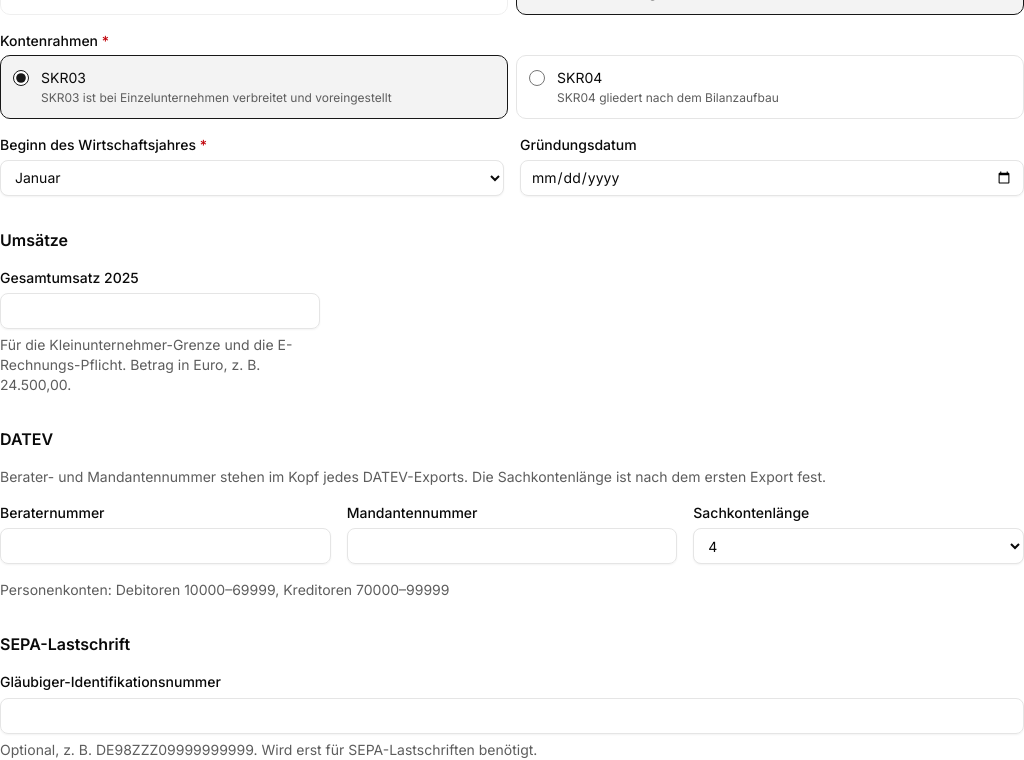
Test: tax settings DATEV section (F01 SET-044) › SET-044 DATEV-02 the debtor/creditor ranges follow the account length; an invalid consultant number is shown
(page scrolled)
Expected: the text with test id "datev-ranges" shows "Debitoren 10000–69999, Kreditoren 70000–99999", [0,581,450,598]
Select "5" in the dropdown labelled "Sachkontenlänge" at (859, 546), box [693,528,1023,564]
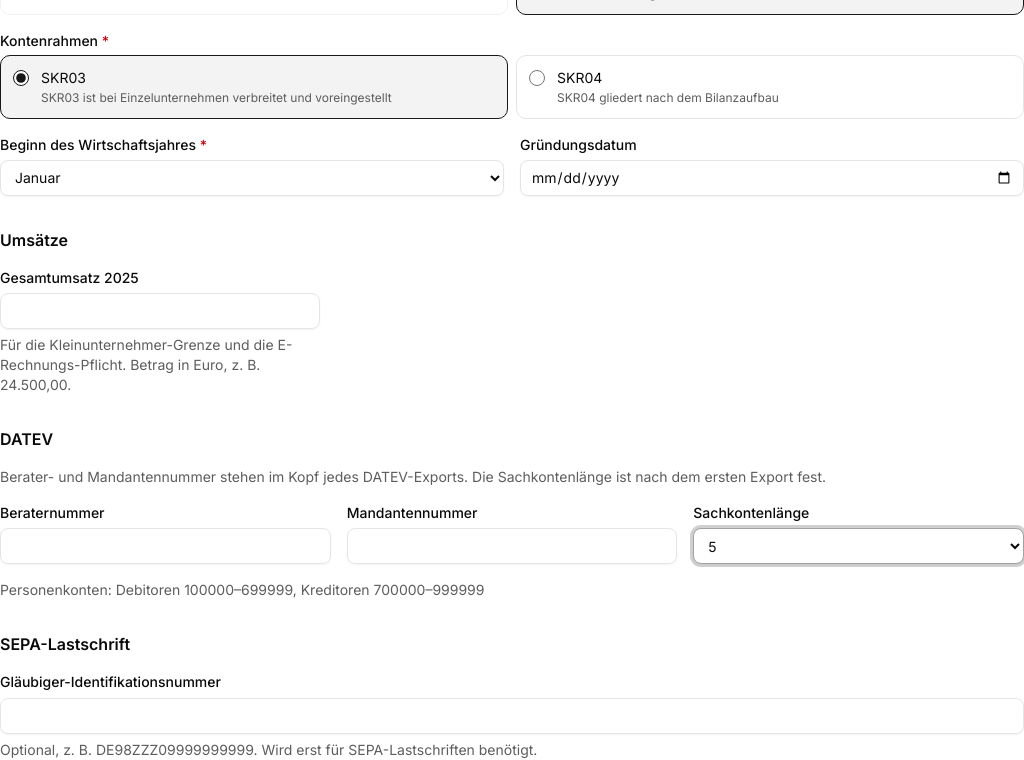
Now the text with test id "datev-ranges" shows "Debitoren 100000–699999", box [0,581,484,598]
Type "999" into the field labelled "Beraternummer" at (165, 546), box [0,528,331,564]
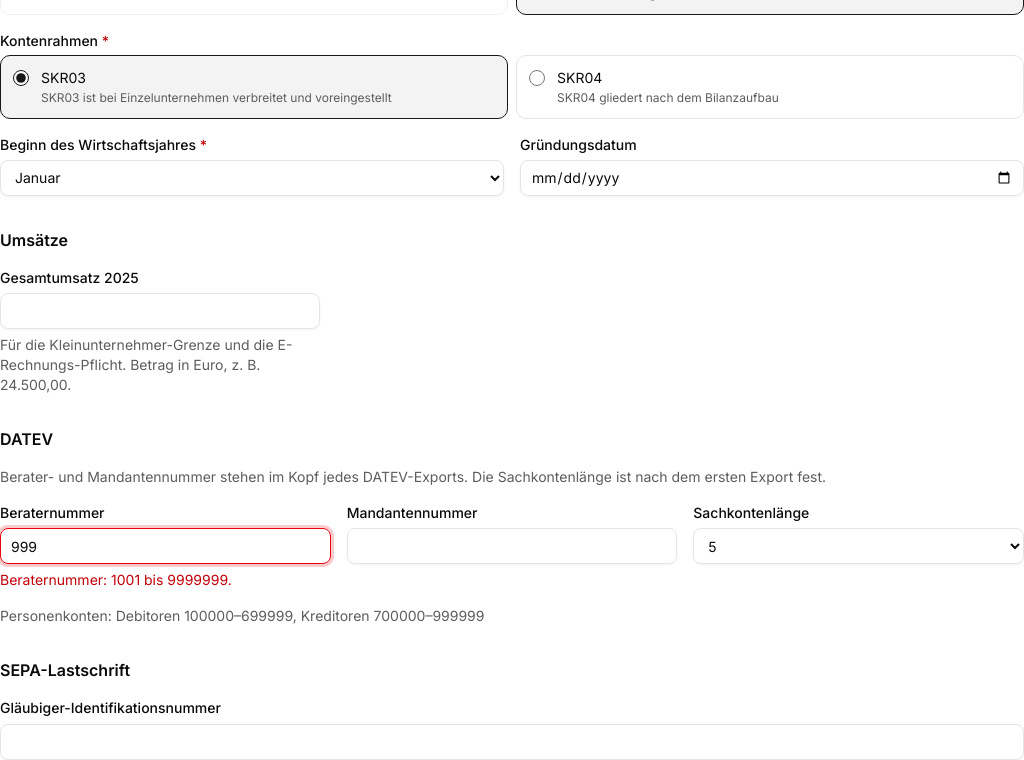
Now the text "Beraternummer: 1001 bis 9999999." is shown, box [0,571,232,588]
